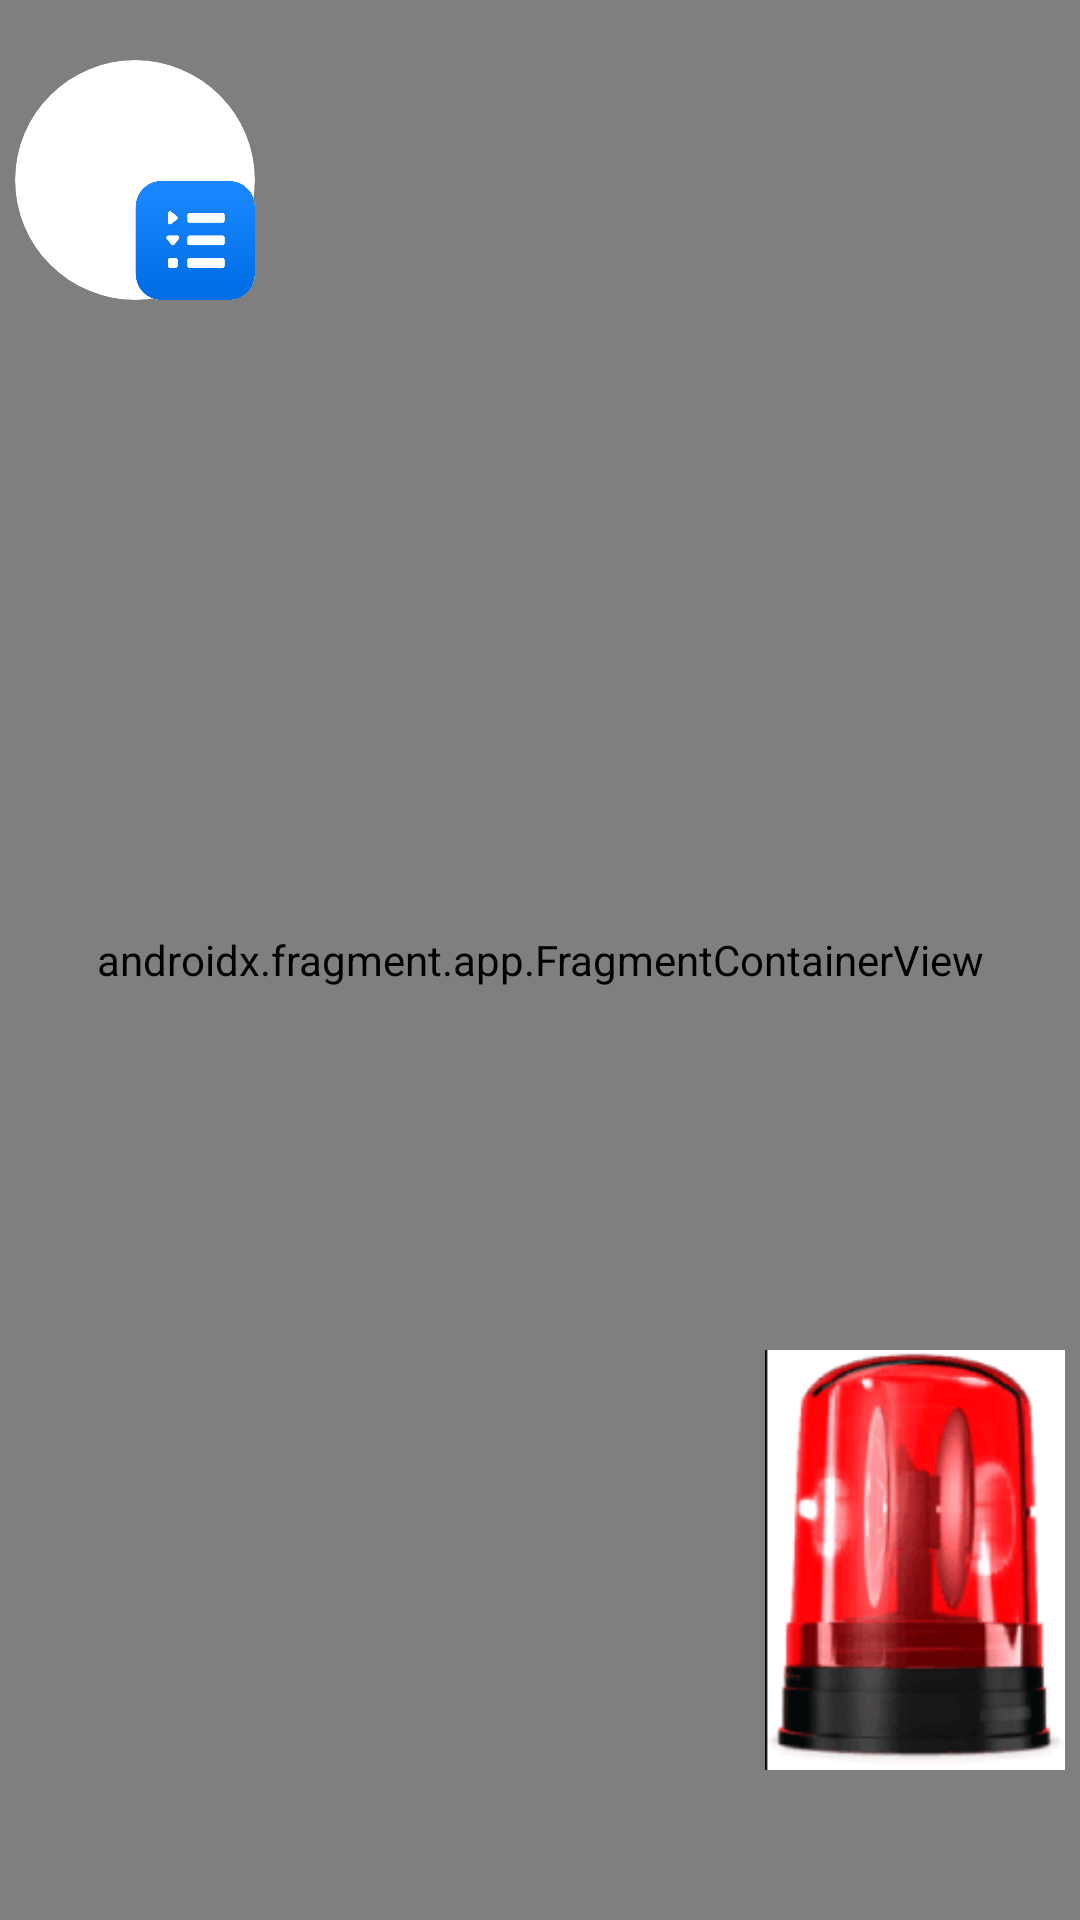

Icon click points for this 1080px x 1920px phone screenshot, format (x,y):
menu: (195,240)
